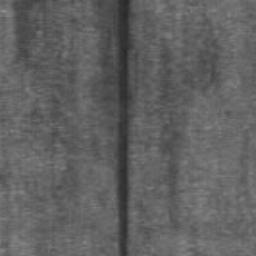Scratches: (115, 0, 132, 256)
